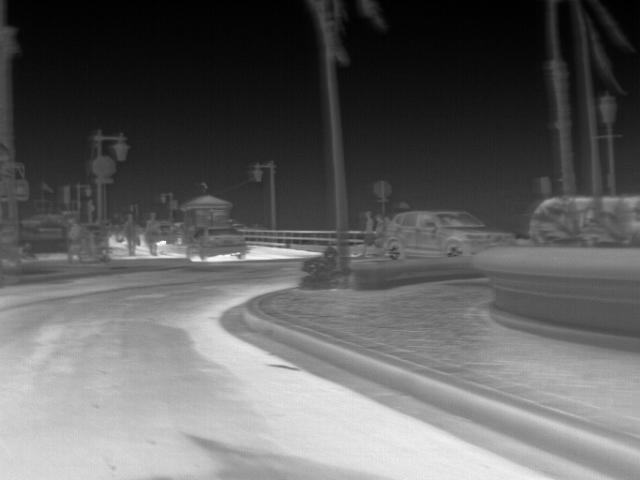car: (382, 207, 518, 260), (187, 225, 250, 261), (529, 196, 565, 246)
person: (120, 212, 142, 258), (64, 216, 85, 262), (357, 208, 376, 258), (145, 213, 163, 255), (370, 213, 387, 253), (22, 240, 39, 262)
